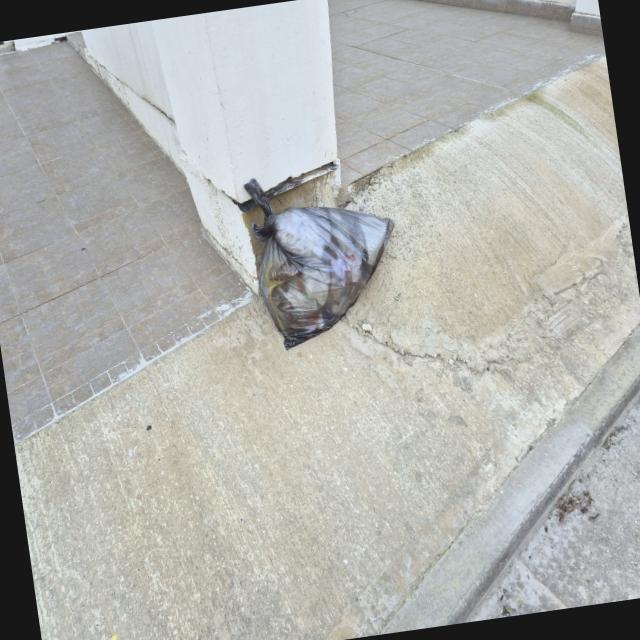black_bag: (228, 146, 418, 353)
